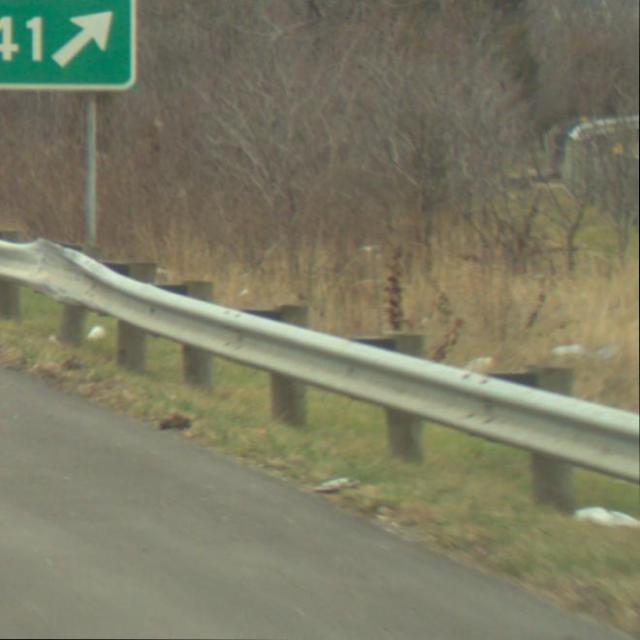Guard rail: (2, 223, 640, 536)
